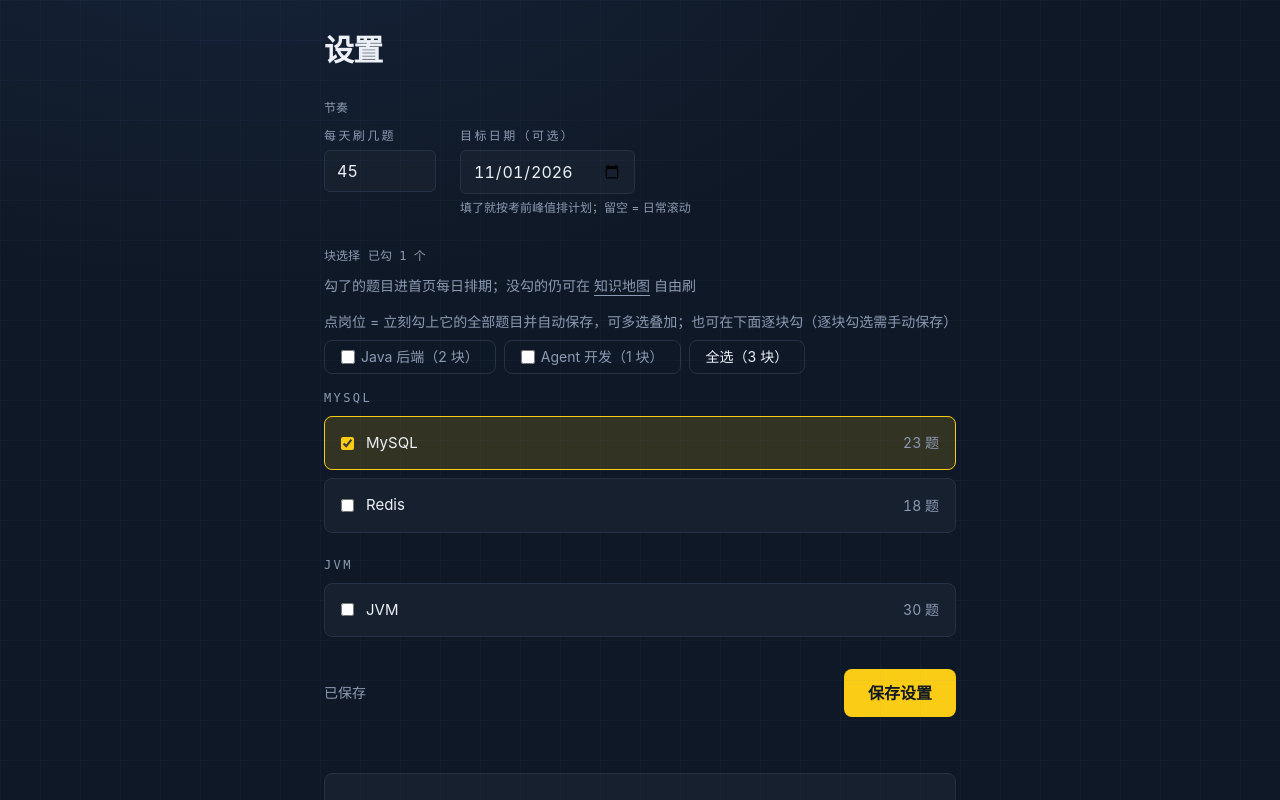
Test: 岗位 chip 立即生效且自动保存：点一个 = 替换并落库；再点一个 = 并集落库，无需手动保存
点一个岗位：b1/b3 勾上，b2（其他岗位）当场取消——不等任何按钮
Click the checkbox labelled "Java 后端（2 块）".
click(348, 357)  # box [341,350,355,364]
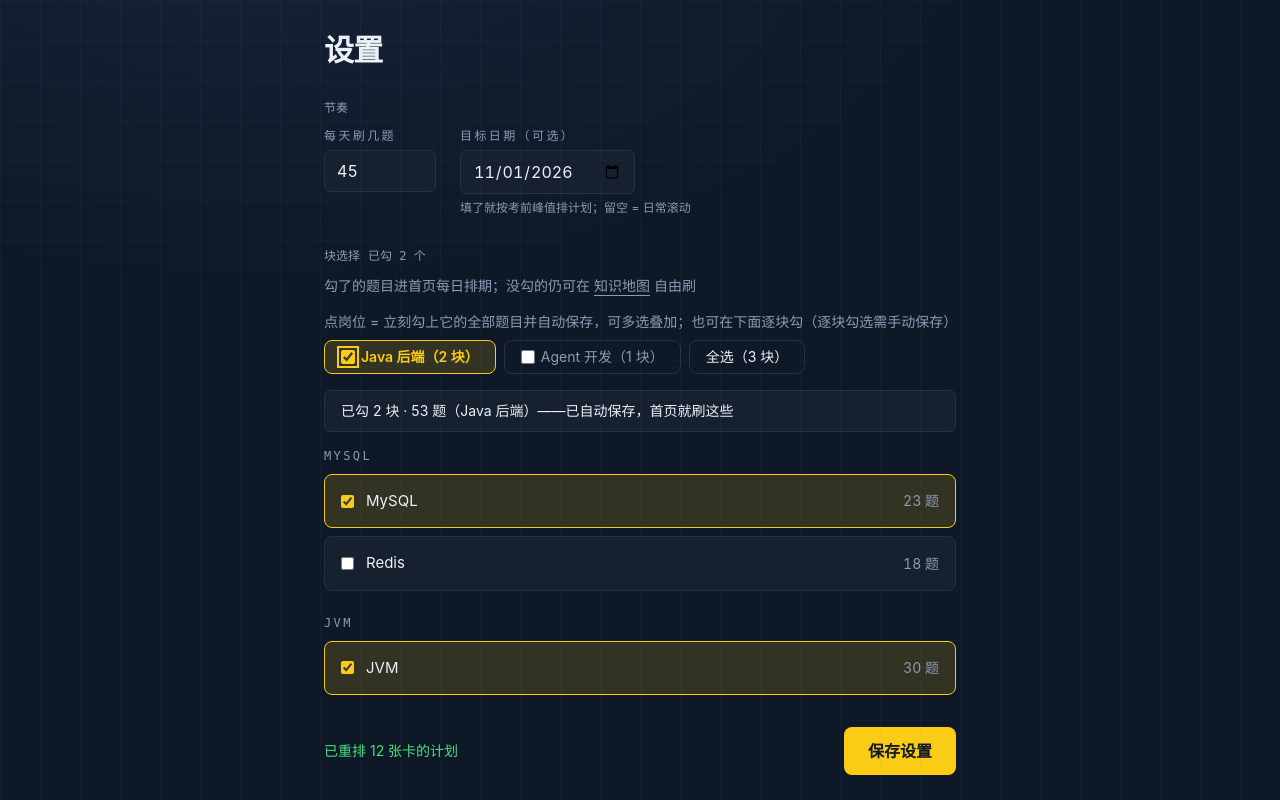
Expected: the text with test id "selected-count" reads "已勾 2 个", [368,249,426,263]
Expected: the checkbox labelled "JVM 30 题" is checked, [341,661,354,674]
Expected: the message with test id "bulk-note" shows "已勾 2 块 · 53 题（Java 后端）——已自动保存", [324,390,956,432]
再点第二个岗位：并集叠加（连点排队，末次生效）
Click the checkbox labelled "Agent 开发（1 块）".
click(528, 357)  # box [521,350,535,364]
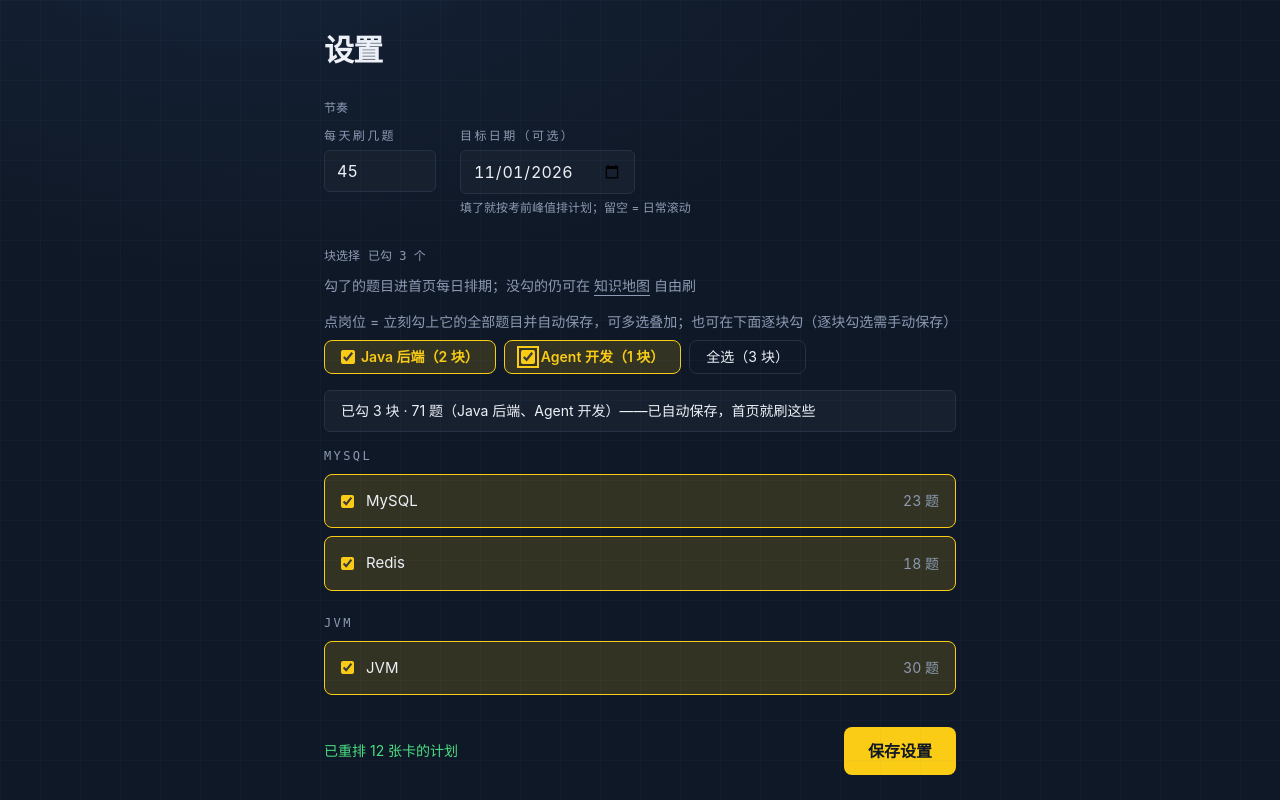
Expected: the text "已重排 12 张卡的计划" is shown, [324,742,458,759]
Expected: the text with test id "selected-count" reads "已勾 3 个", [368,249,426,263]
Expected: the message with test id "bulk-note" shows "已勾 3 块 · 71 题（Java 后端、Agent 开发）——已自动保存", [324,390,956,432]
